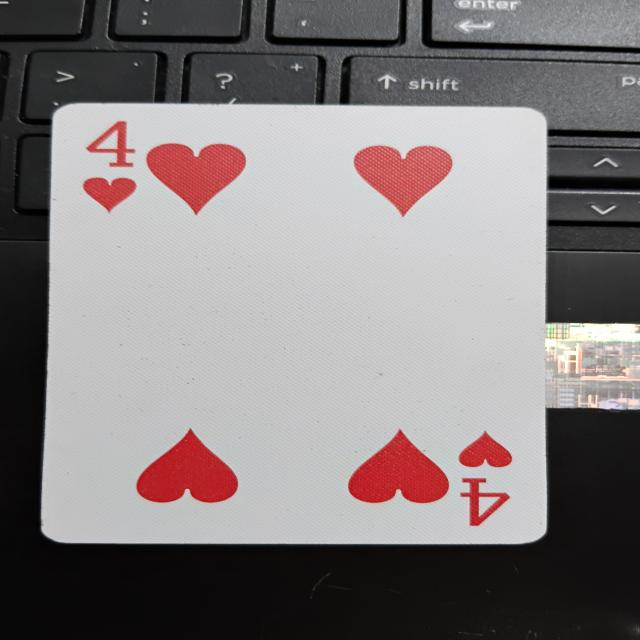4H: (56, 99, 549, 544)
